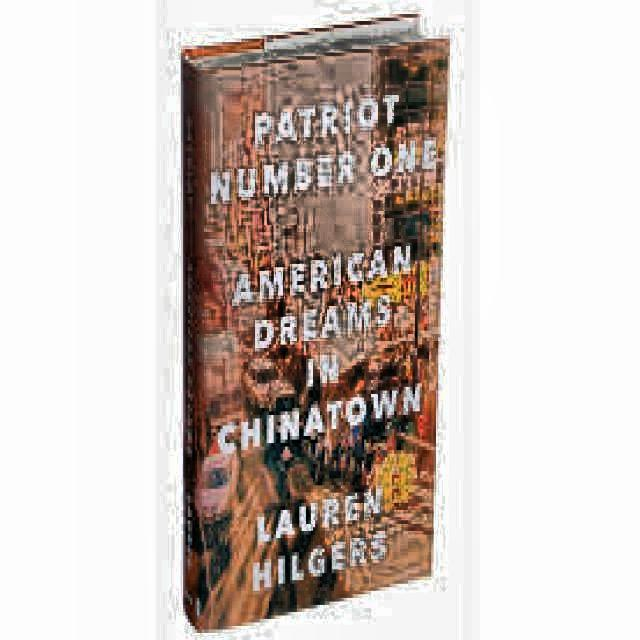Paper: (181, 10, 447, 626), (193, 39, 446, 630)
